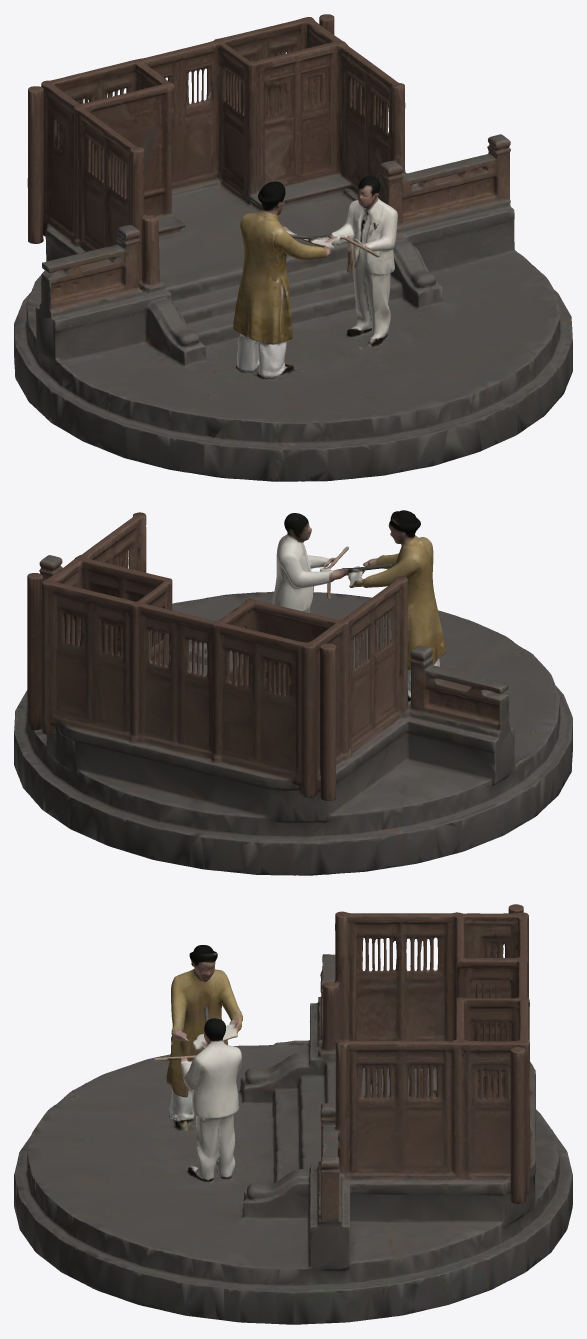
Rendered from vua_bao_dai_thoai_vi.glb.
3 renders of one model, top to bottom at view 1: azimuth 30°, elevation 25°; view 2: azimuth 150°, elevation 25°; view 3: azimuth 270°, elevation 25°, orthographic.
Visible parts, largest first — view 1: Mesh_0; view 2: Mesh_0; view 3: Mesh_0.
Part boxes in pixels (x1,y1,x2,y2): Mesh_0: (14, 14, 572, 481); Mesh_0: (14, 510, 572, 875); Mesh_0: (14, 904, 572, 1324).
Size of the model in its own units: 1.9 by 0.8581 by 1.9.
Materials: 1 (1 with a texture image).
